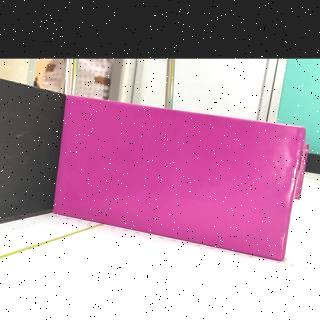xparking: (53, 96, 304, 262)
